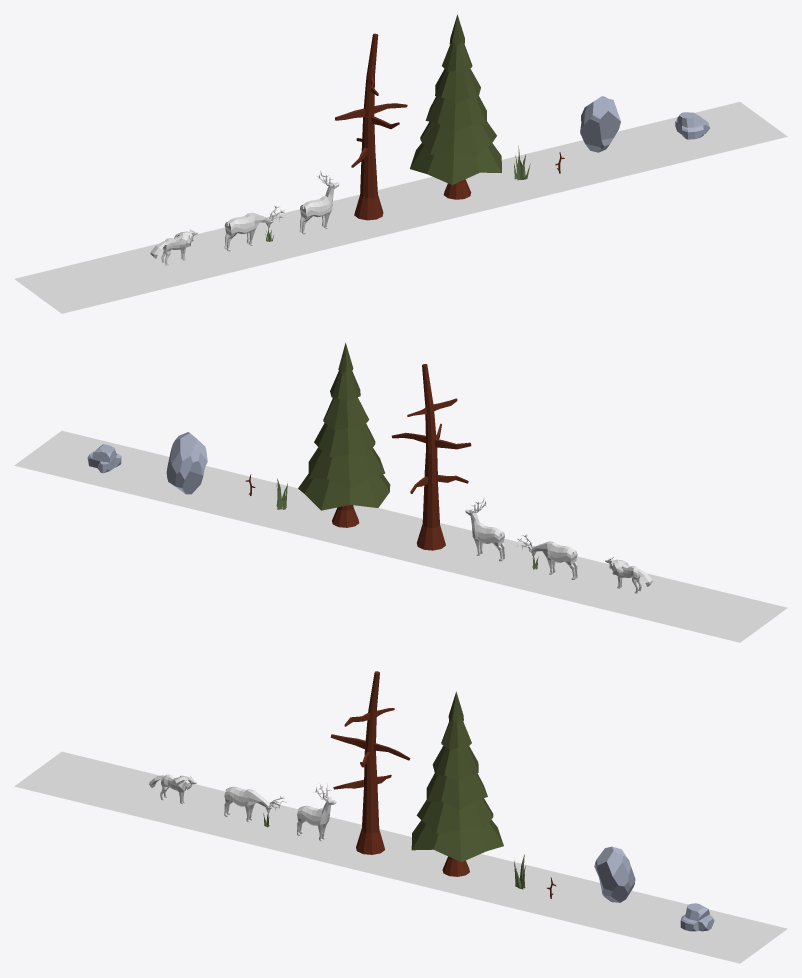
The model's file is Winter forest - models.fbx.
3 views of the same model, one above another, from view 1: azimuth 30°, elevation 25°; view 2: azimuth 150°, elevation 25°; view 3: azimuth 330°, elevation 25° (orthographic).
Parts seen in each view (by area): view 1: Plane.004, Tree model 1, Tree model 2, Rock model.001, Elk model 2, Elk model, Wolf model, Rock model 2; view 2: Plane.004, Tree model 1, Tree model 2, Rock model.001, Elk model 2, Elk model, Wolf model, Rock model 2; view 3: Plane.004, Tree model 1, Tree model 2, Rock model.001, Elk model 2, Elk model, Rock model 2, Wolf model.
Boxes of the visible parts, x1,y1,x2,y2 form: Plane.004: [14, 102, 787, 313]; Tree model 1: [410, 14, 501, 199]; Tree model 2: [335, 33, 407, 220]; Rock model.001: [580, 96, 620, 152]; Elk model 2: [224, 205, 287, 251]; Elk model: [299, 170, 339, 234]; Wolf model: [150, 229, 198, 265]; Rock model 2: [675, 112, 710, 139]; Plane.004: [14, 430, 787, 642]; Tree model 1: [298, 342, 390, 527]; Tree model 2: [391, 364, 471, 550]; Rock model.001: [166, 432, 207, 494]; Elk model 2: [515, 534, 577, 579]; Elk model: [465, 497, 504, 561]; Wolf model: [605, 557, 652, 593]; Rock model 2: [87, 444, 121, 473]; Plane.004: [14, 751, 787, 963]; Tree model 1: [411, 691, 503, 876]; Tree model 2: [330, 671, 410, 854]; Rock model.001: [594, 846, 635, 902]; Elk model 2: [224, 786, 287, 822]; Elk model: [297, 783, 336, 841]; Rock model 2: [680, 903, 714, 931]; Wolf model: [149, 774, 196, 804].
Size of the model in its own units: 4003 by 970 by 457.
